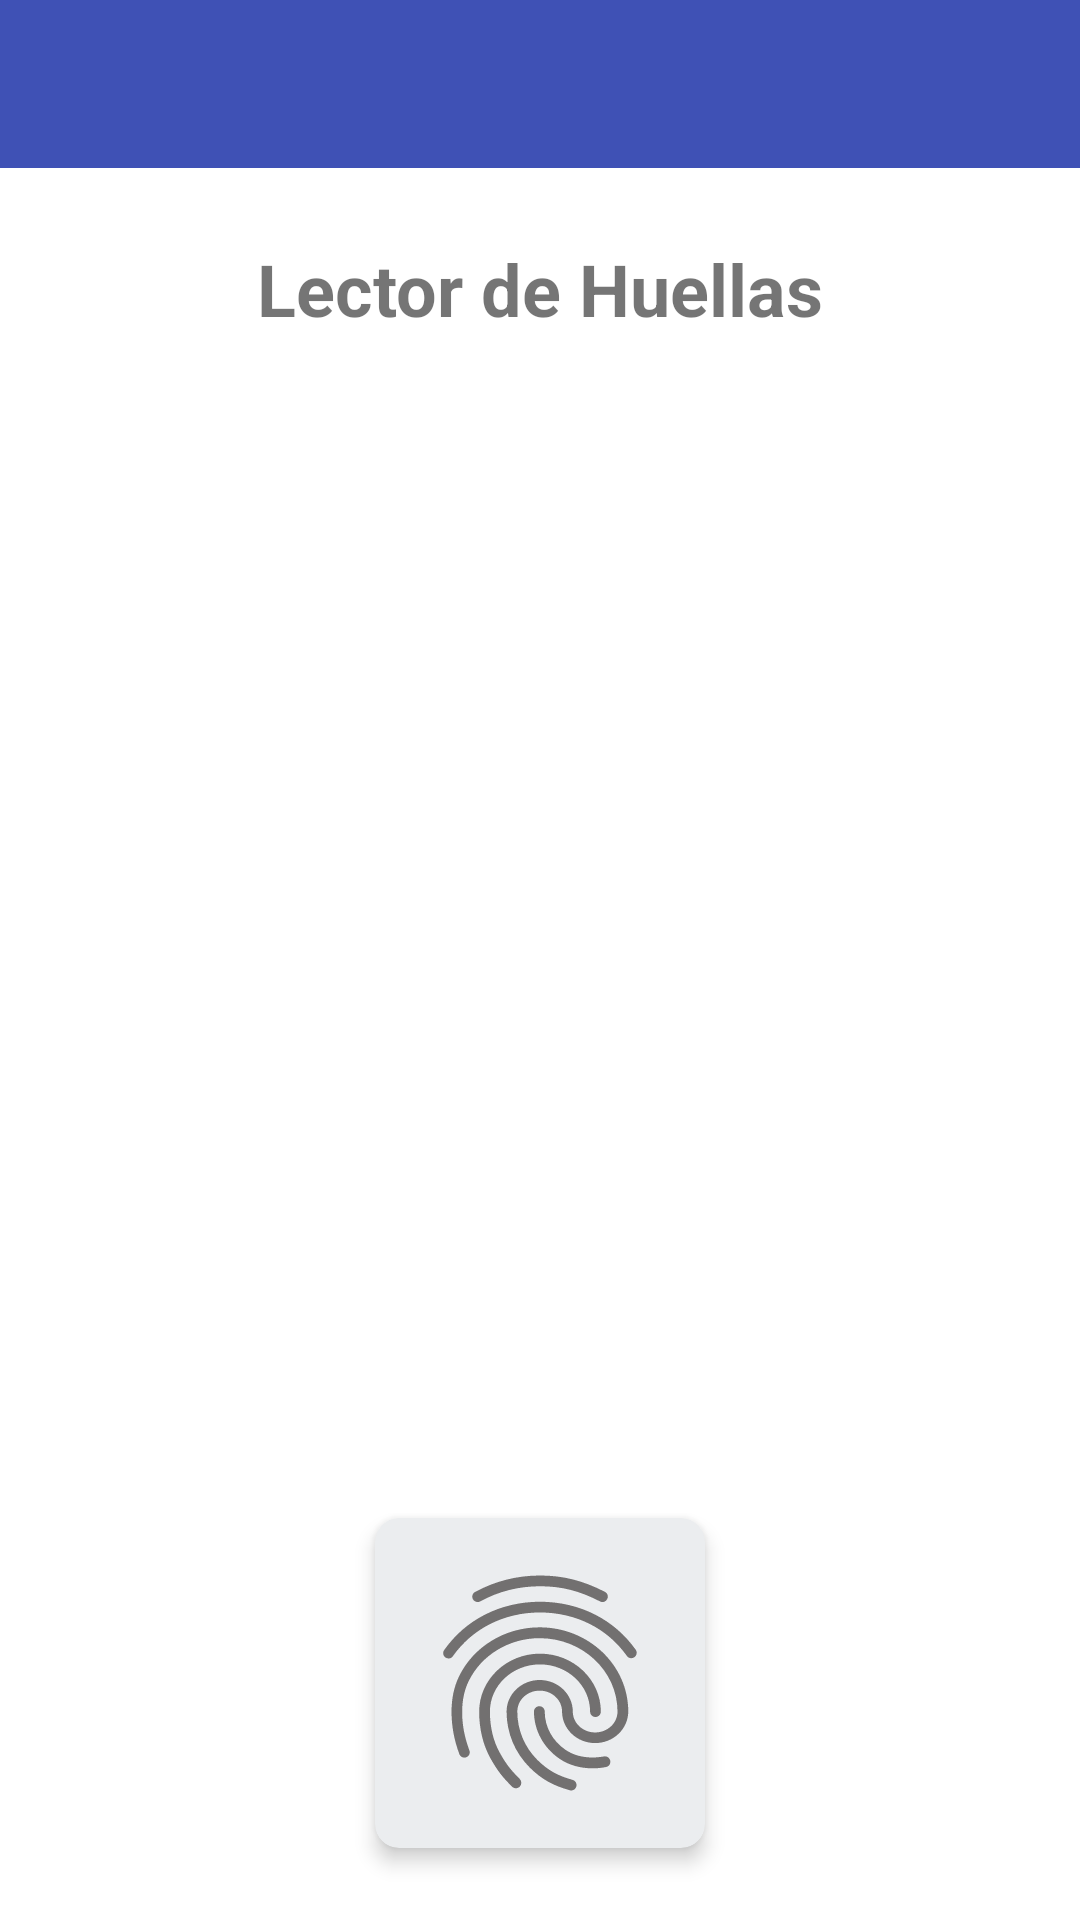

Icon bounding boxes for this 1080w x 1920h phone screenshot, format (x1, y1, x2, y2):
fingerprint: (443, 1575, 637, 1791)
